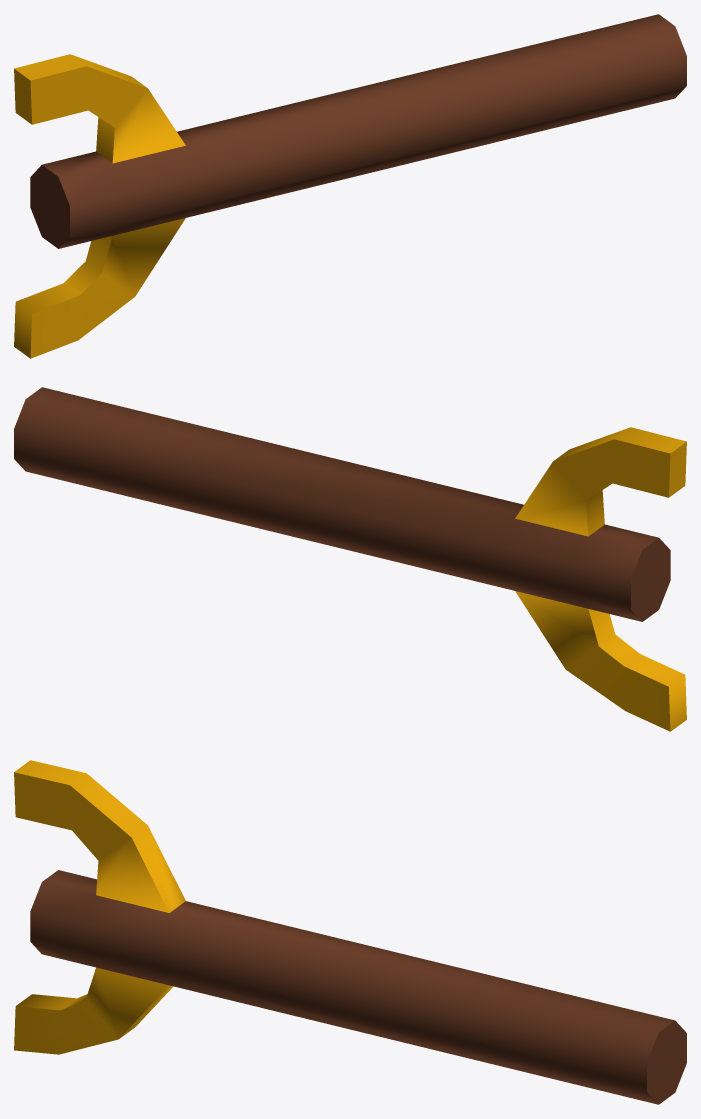
Rendered from KeyNeck.fbx.
The picture shows the model from 3 angles, top to bottom: view 1: azimuth 30°, elevation 25°; view 2: azimuth 150°, elevation 25°; view 3: azimuth 330°, elevation 25°; orthographic projection.
Parts seen in each view (by area): view 1: KeyNeck; view 2: KeyNeck; view 3: KeyNeck.
Boxes of the visible parts, bbox=[...] form: KeyNeck: bbox=[14, 14, 686, 358]; KeyNeck: bbox=[14, 387, 686, 731]; KeyNeck: bbox=[14, 760, 686, 1104].
Size of the model in its own units: 396 by 164 by 42.43.
